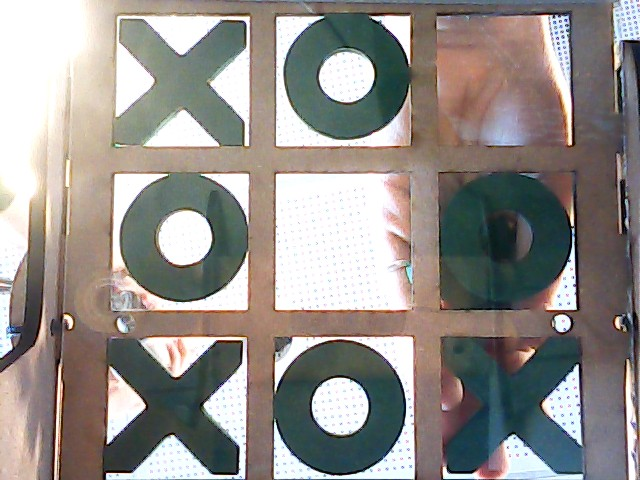O: (278, 335, 405, 475), (441, 174, 576, 303), (278, 16, 409, 145), (115, 176, 247, 299)
X: (445, 337, 585, 476), (108, 338, 242, 475), (116, 13, 247, 147)
